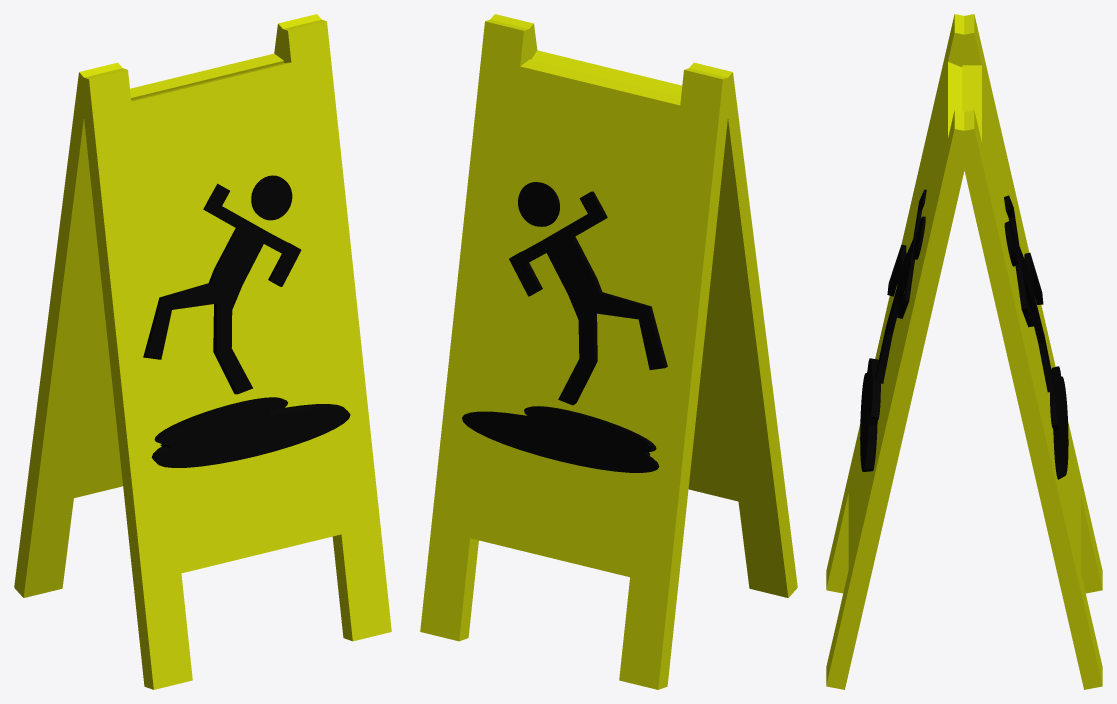
Rendered from floor sign.fbx.
3 views of the same model, side by side, from view 1: azimuth 30°, elevation 25°; view 2: azimuth 150°, elevation 25°; view 3: azimuth 270°, elevation 25° (orthographic).
Visible parts, largest first — view 1: Cube, Cube.002; view 2: Cube, Cube.002; view 3: Cube, Cube.002.
Boxes of the visible parts, <box> form: Cube: <box>14,14,391,689</box>; Cube.002: <box>143,175,350,467</box>; Cube: <box>420,14,797,689</box>; Cube.002: <box>462,182,667,472</box>; Cube: <box>826,14,1102,689</box>; Cube.002: <box>860,189,1068,479</box>.
Size of the model in its own units: 200 by 455 by 203.
